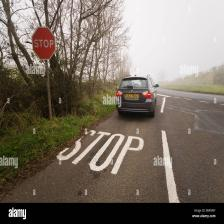Stop-sign: (29, 22, 58, 64)
